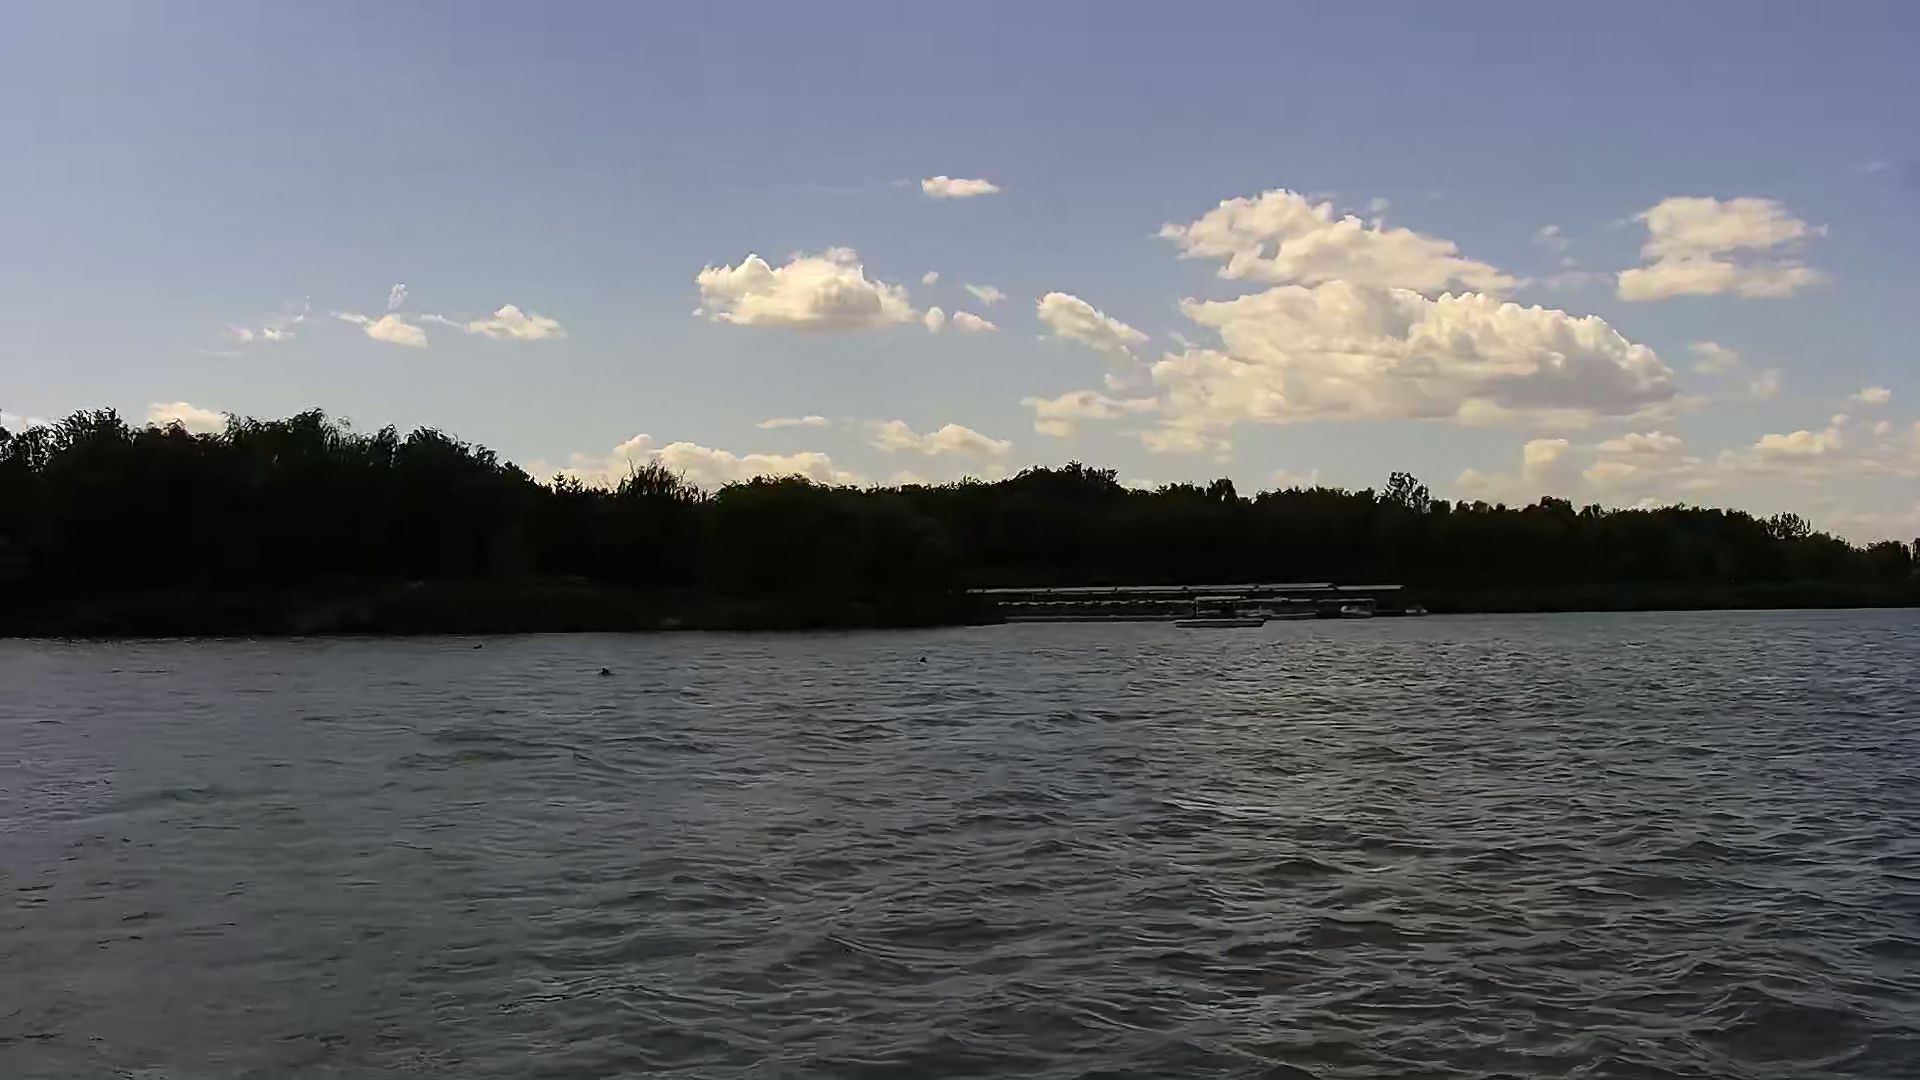boat: (1167, 593, 1273, 632)
harbor: (967, 578, 1414, 621)
